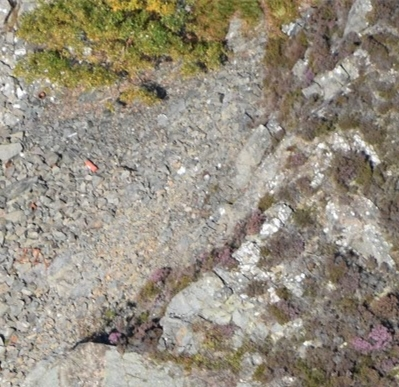white_in_green: (68, 143, 115, 185), (20, 76, 63, 111)
